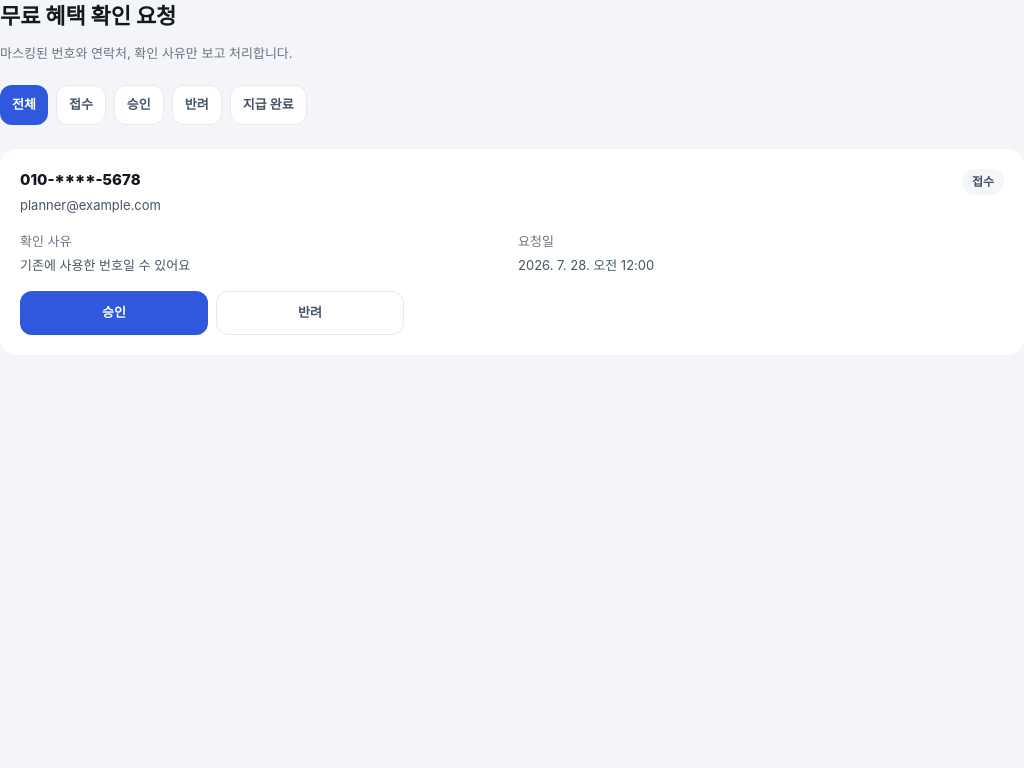
Test case: 관리자 무료 혜택 확인 요청 › 409 뒤에는 재확정만 막고 Escape로 닫아 원래 버튼에 초점을 돌린다
This screenshot has width=1024, height=768.
Click the button "승인".
click(114, 313)  # box [20,291,208,335]
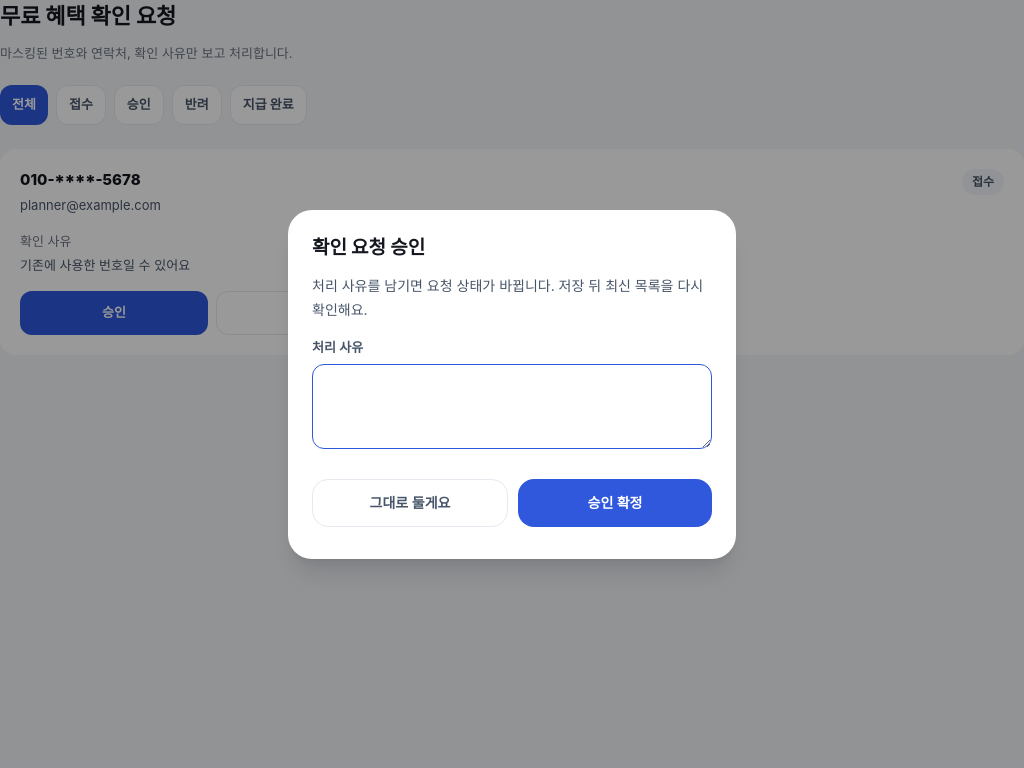
Type "이미 처리됐어요" into the text box labelled "처리 사유".
click(512, 406); type("이미 처리됐어요")  # box [312,364,712,448]
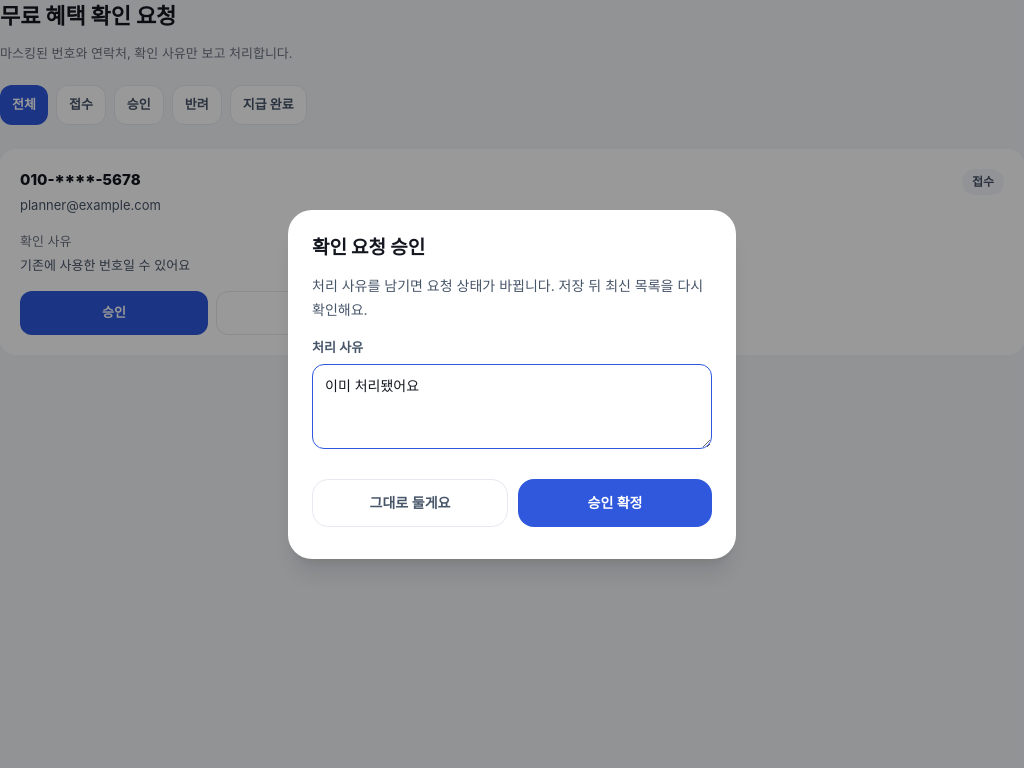
Click the button "승인 확정".
click(615, 502)  # box [518,478,712,526]
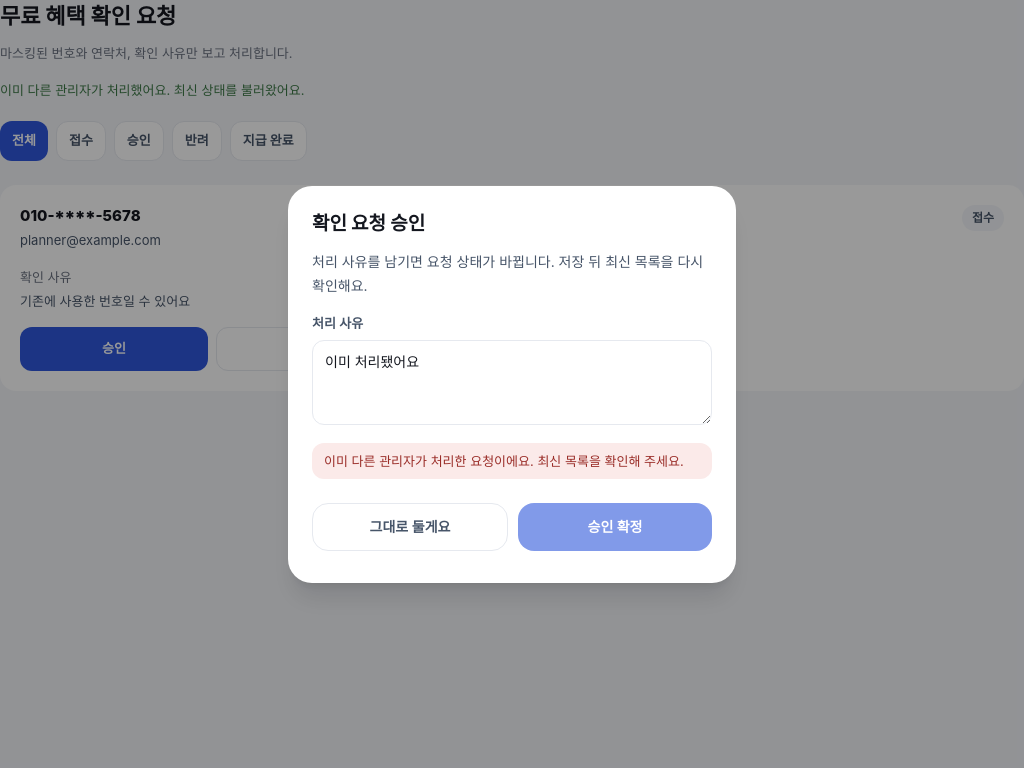
expect the text "이미 다른 관리자가 처리한 요청이에요. 최신 목록을 확인해 주세요." is shown: met, box [312,442,712,478]
expect the button "승인 확정" is disabled: met
Click the button "승인 확정".
click(615, 526)  # box [518,502,712,550]
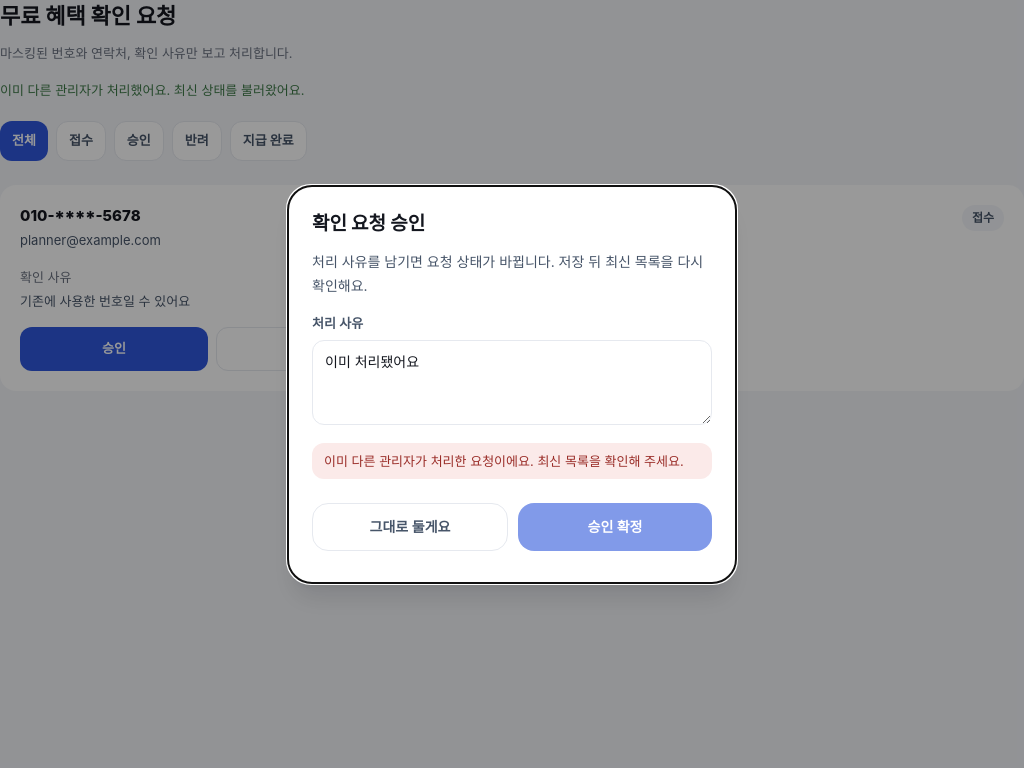
Press Escape
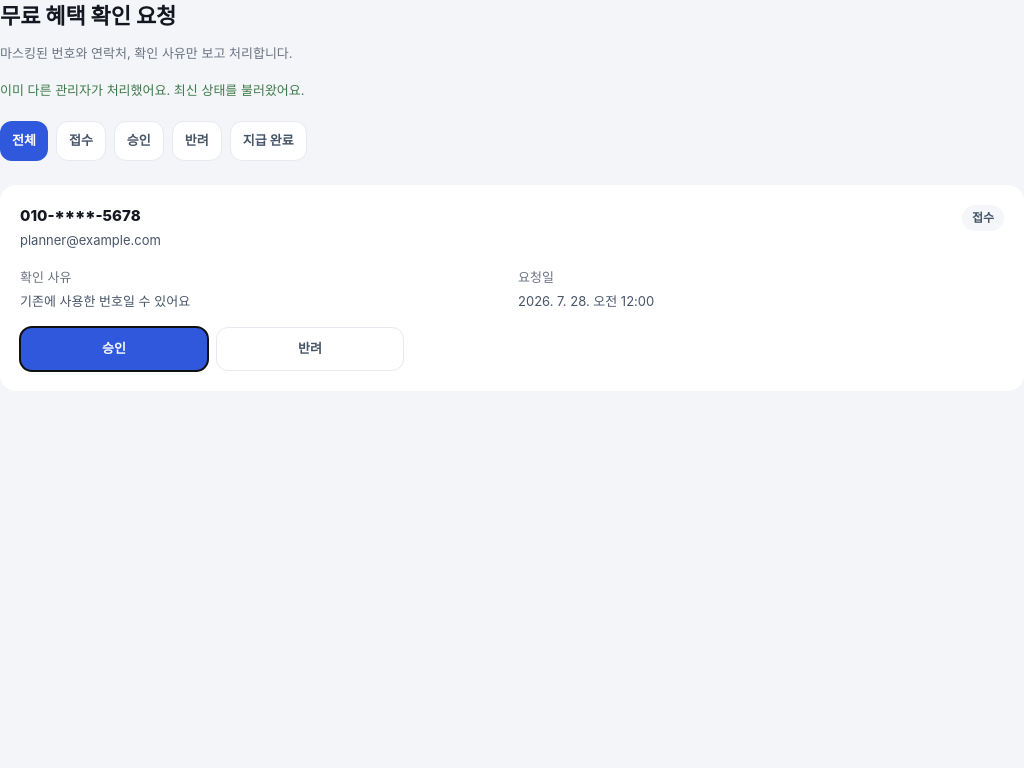
expect the dialog is gone: met
